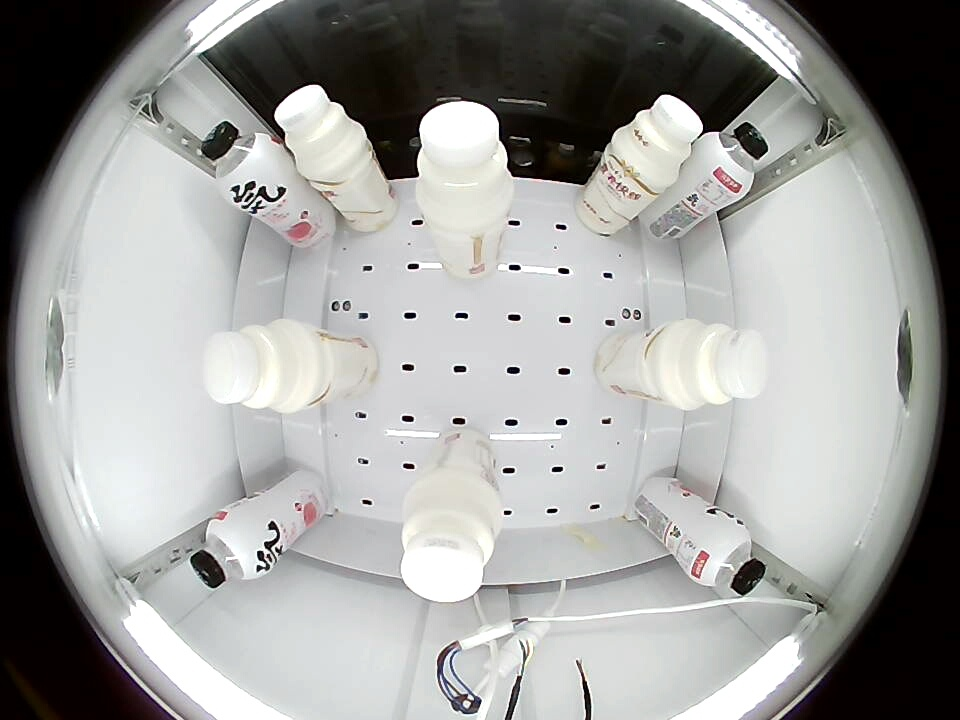yingyangkuaixian: (399, 469, 506, 601), (415, 101, 515, 229), (203, 318, 316, 413), (658, 319, 768, 411), (274, 84, 369, 179), (611, 94, 703, 190)
yuanqishui: (198, 121, 286, 204), (187, 509, 272, 589), (685, 517, 768, 596), (694, 121, 771, 197)
